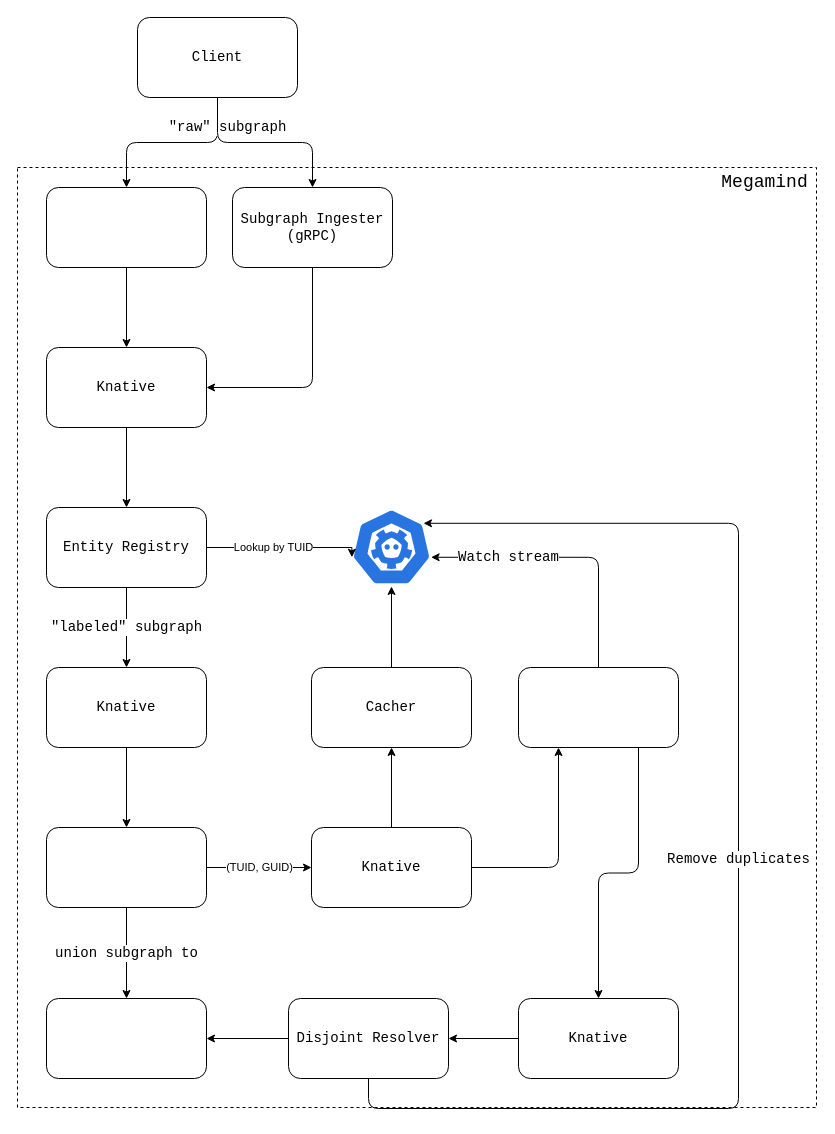
The diagram is 835 pixels wide and 1134 high, and some of its shapes have lost their labels. Here are the shapes that lost their labels. From the top down, the centre of each, then its label:
point (126, 227): Subgraph Ingester (REST)
point (598, 707): Disjoint Watcher
point (126, 867): Graph Mutator
point (126, 1038): Knowledge Graph
